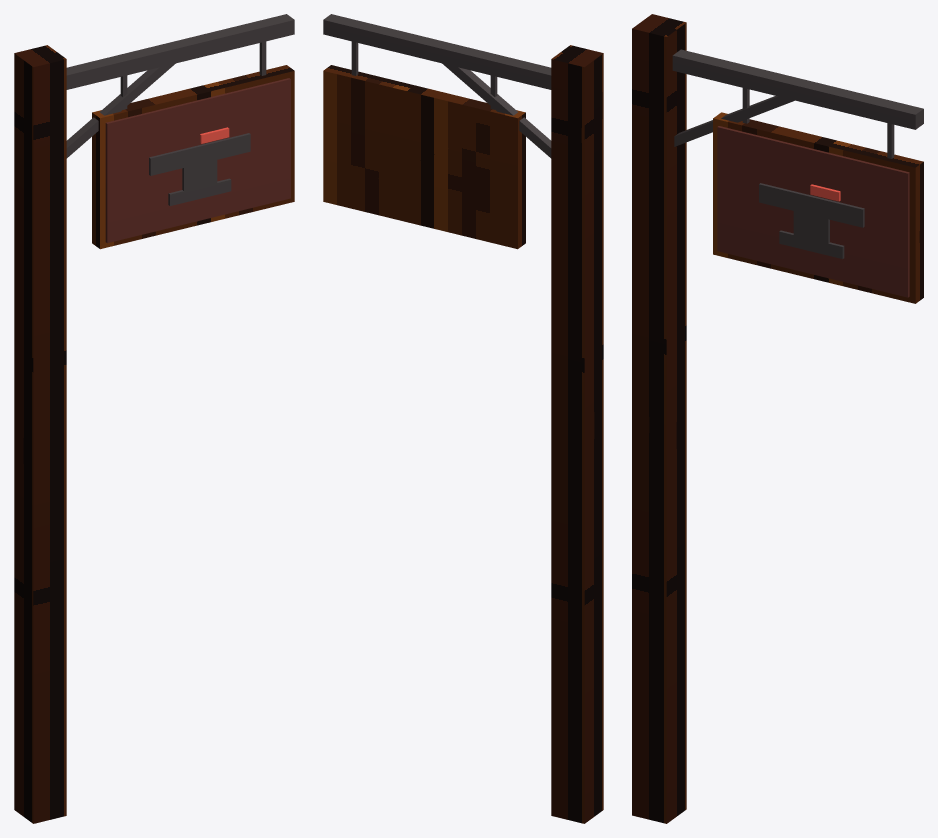
Rendered from forge_sign.glb.
3 renders of one model, left to right at view 1: azimuth 30°, elevation 25°; view 2: azimuth 150°, elevation 25°; view 3: azimuth 330°, elevation 25°, orthographic. The views are drawn at different scales.
Parts seen in each view (by area): view 1: forge_sign; view 2: forge_sign; view 3: forge_sign.
Part boxes in pixels (x1,y1,x2,y2): forge_sign: [14, 14, 294, 823]; forge_sign: [323, 14, 603, 823]; forge_sign: [632, 14, 923, 823].
Size of the model in its own units: 0.96 by 2.6 by 0.12.
Materials: 3 (1 with a texture image).
